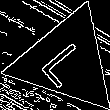L_NE: (36, 33, 96, 89)
